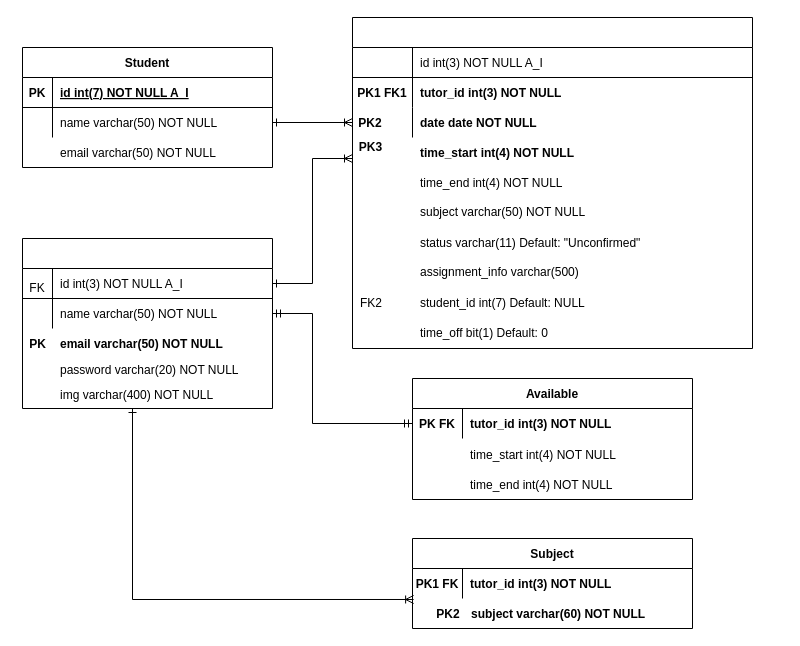
This 800x646 diagram has some shape labels left out. The box of each missing label's shape, as (x1, y1, x2, y2) in pixels:
Appointment: (352, 16, 752, 348)
Tutor: (22, 238, 272, 408)
